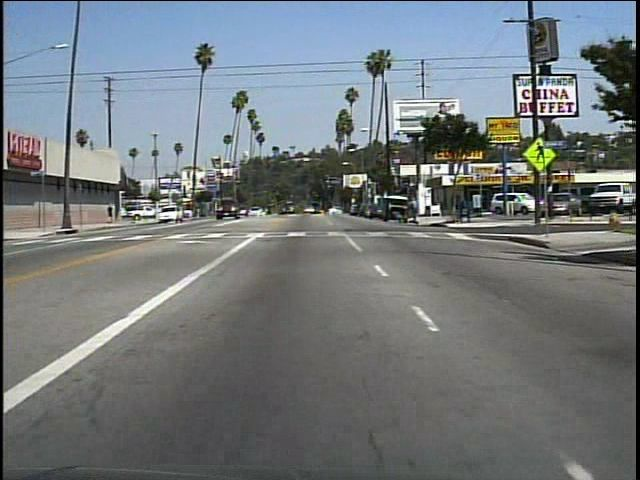person: (407, 195, 422, 226), (392, 209, 409, 228), (107, 200, 116, 225)
